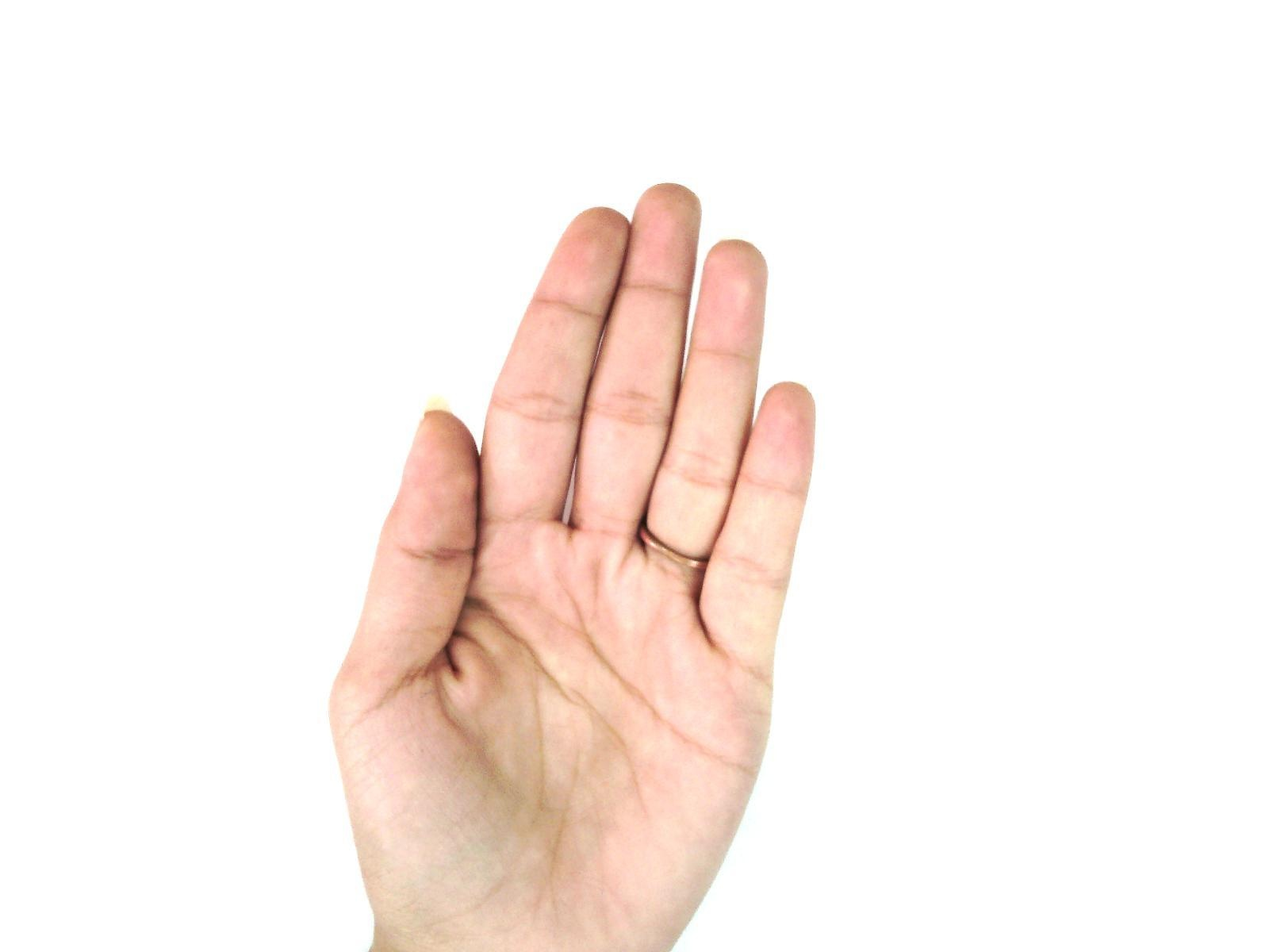open_palm: (327, 182, 819, 951)
